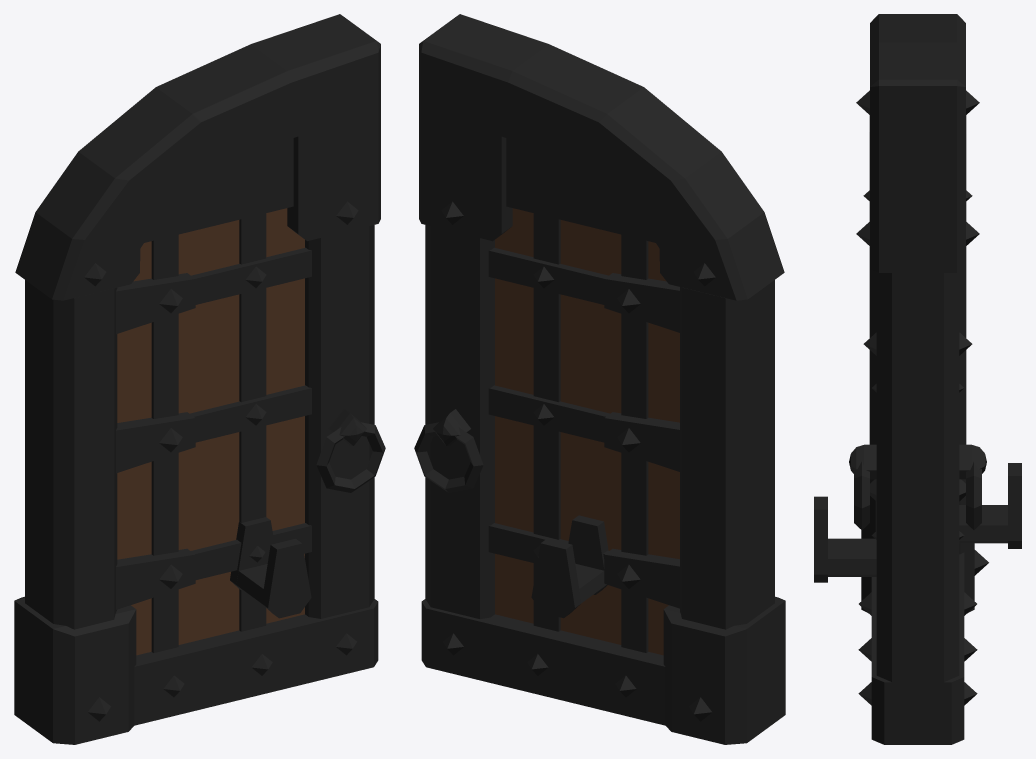
Rendered from Reinforced_Door.fbx.
The picture shows the model from 3 angles, left to right: view 1: azimuth 30°, elevation 25°; view 2: azimuth 150°, elevation 25°; view 3: azimuth 270°, elevation 25°; orthographic projection. The views are drawn at different scales.
Parts seen in each view (by area): view 1: Door_Reinfoced; view 2: Door_Reinfoced; view 3: Door_Reinfoced.
Part boxes in pixels (x1,y1,x2,y2): Door_Reinfoced: (14,14,385,744); Door_Reinfoced: (414,14,785,744); Door_Reinfoced: (814,14,1021,744).
Bounding box in the file's own units: 2.4 × 4.34 × 1.23.
